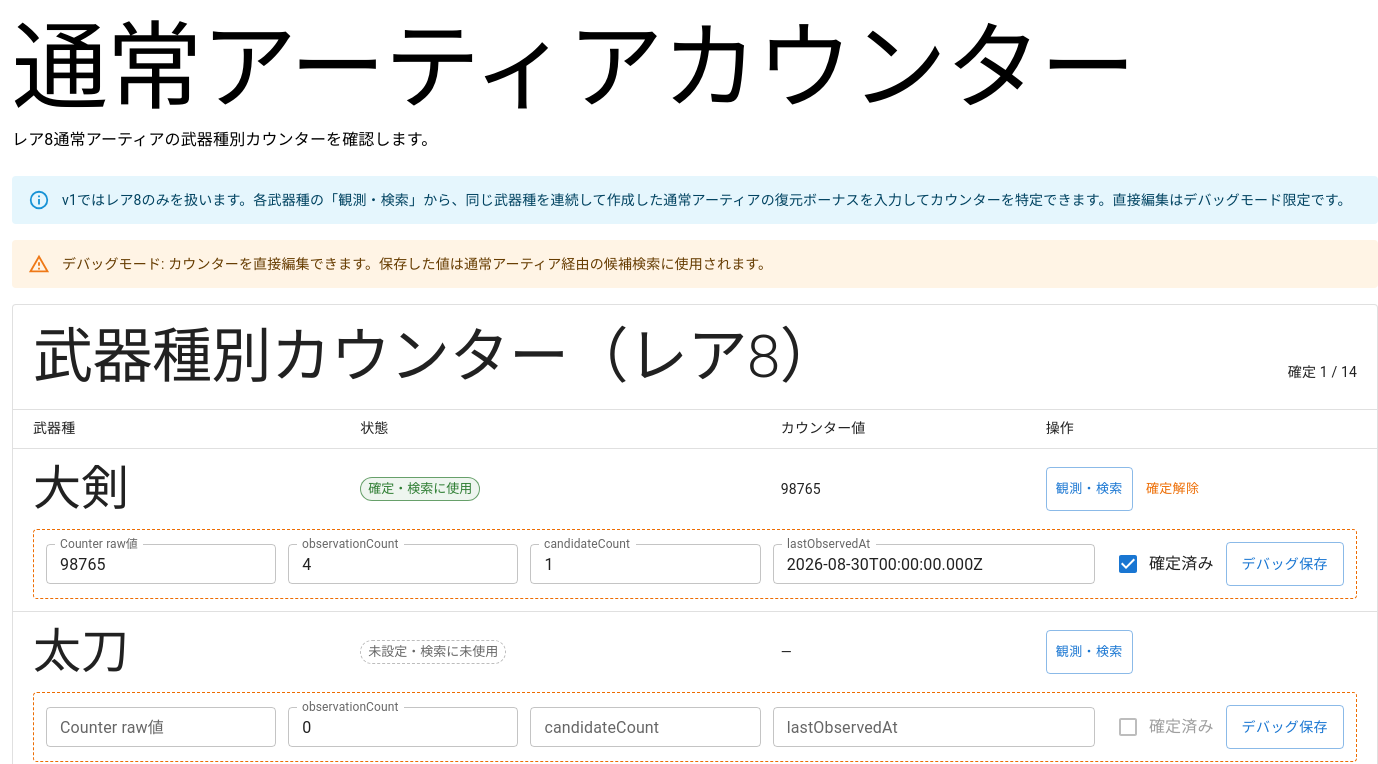
Scenario: NormalCountersPage › never confirms a Counter without a value
Clear the number field labelled "Counter raw値" below "大剣" at (161, 564), box [46, 544, 276, 584]
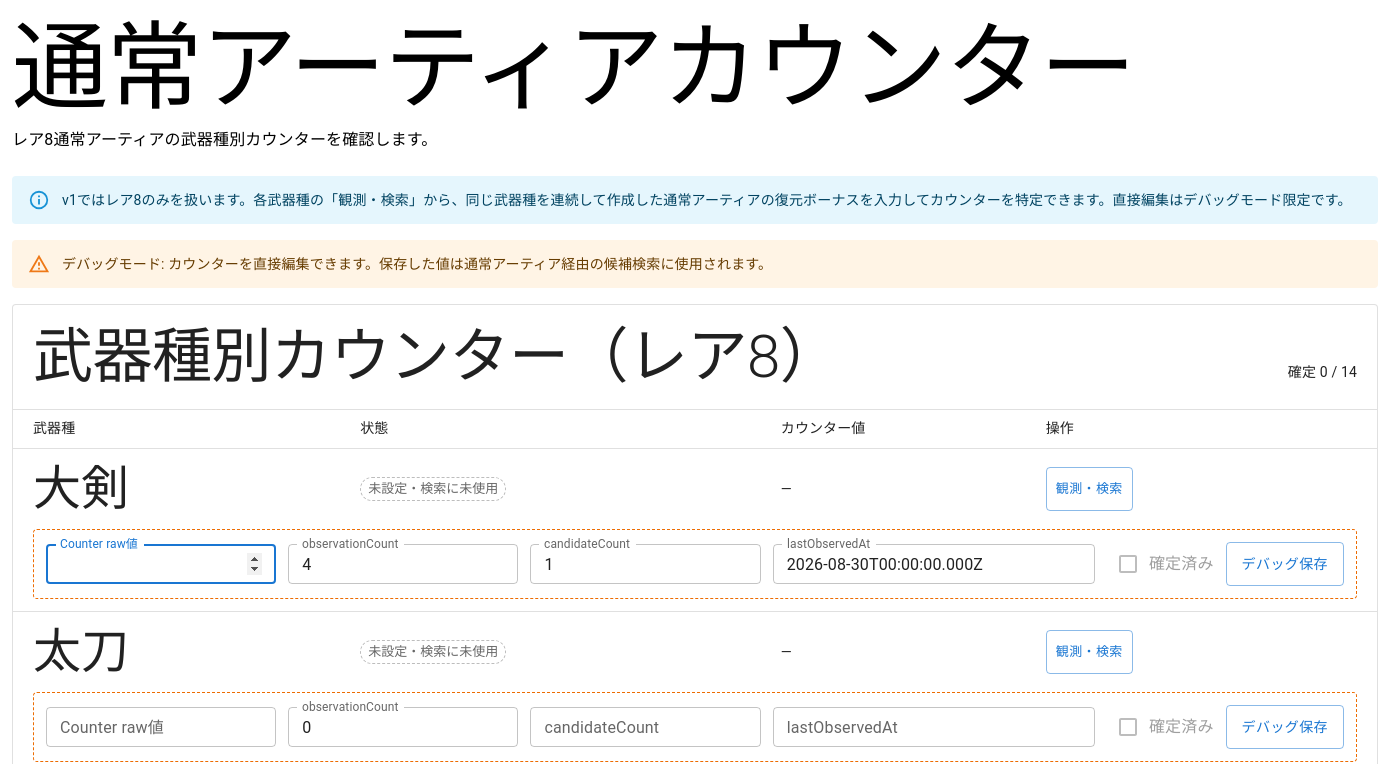
Check: the 1st checkbox labelled "確定済み" is disabled, box [1116, 552, 1214, 576]
Check: the 1st checkbox labelled "確定済み" is not checked, box [1116, 552, 1214, 576]
Click the 1st button "デバッグ保存" at (1285, 564), box [1226, 542, 1344, 586]
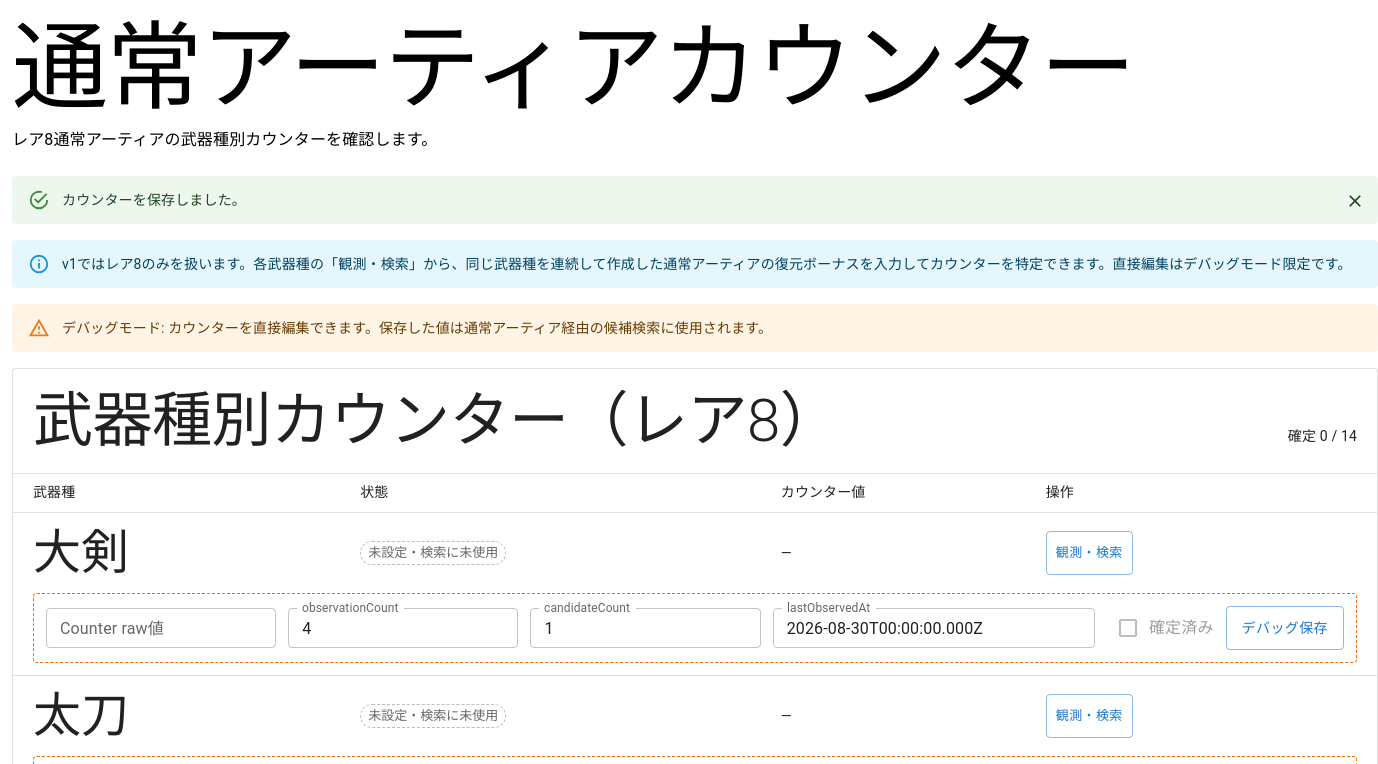
Check: the text "カウンターを保存しました。" is shown, box [62, 192, 246, 208]
